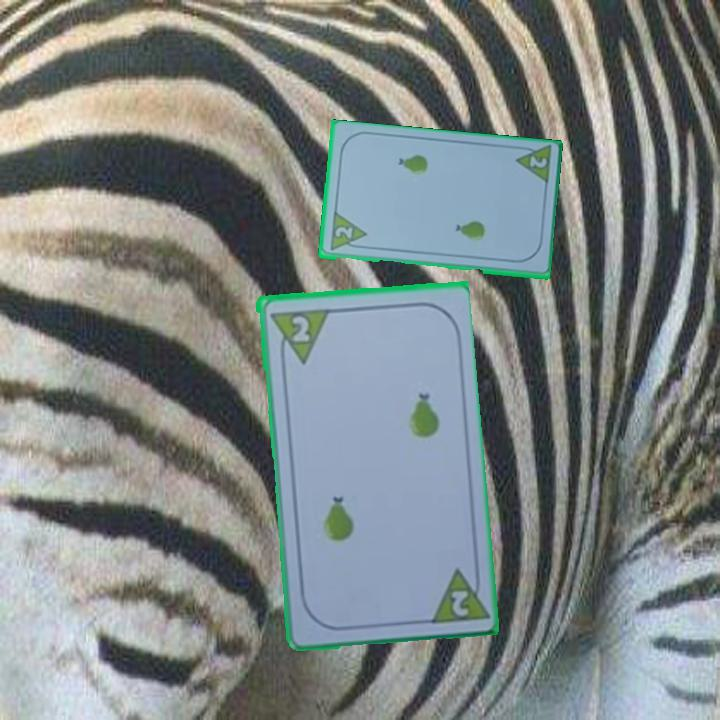2p: (265, 304, 330, 367), (447, 586, 471, 619), (525, 151, 550, 171), (331, 223, 355, 243)
